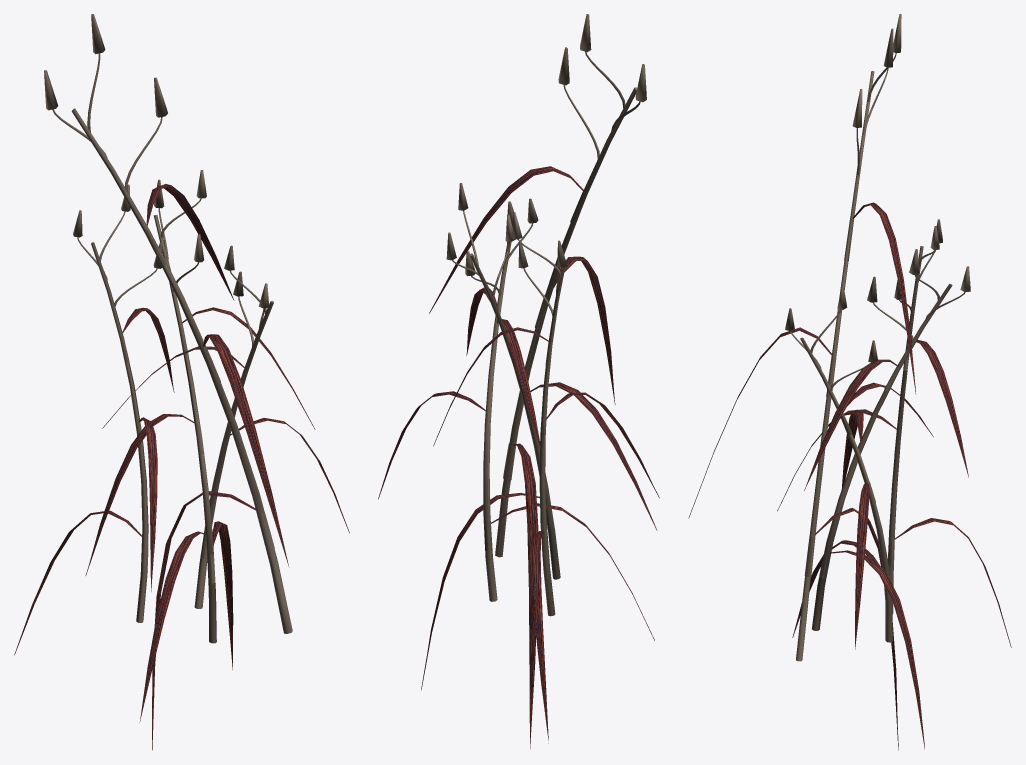
File: dryshoots_02.glb
The picture shows the model from 3 angles, left to right: view 1: azimuth 30°, elevation 25°; view 2: azimuth 150°, elevation 25°; view 3: azimuth 270°, elevation 25°; orthographic projection. The views are drawn at different scales.
Visible parts, largest first — view 1: export; view 2: export; view 3: export.
Boxes of the visible parts, bbox=[...] form: export: bbox=[14, 14, 349, 750]; export: bbox=[378, 14, 659, 748]; export: bbox=[688, 14, 1011, 749].
Size of the model in its own units: 0.6714 by 1.68 by 0.6949.
Materials: 2 (2 with a texture image).
